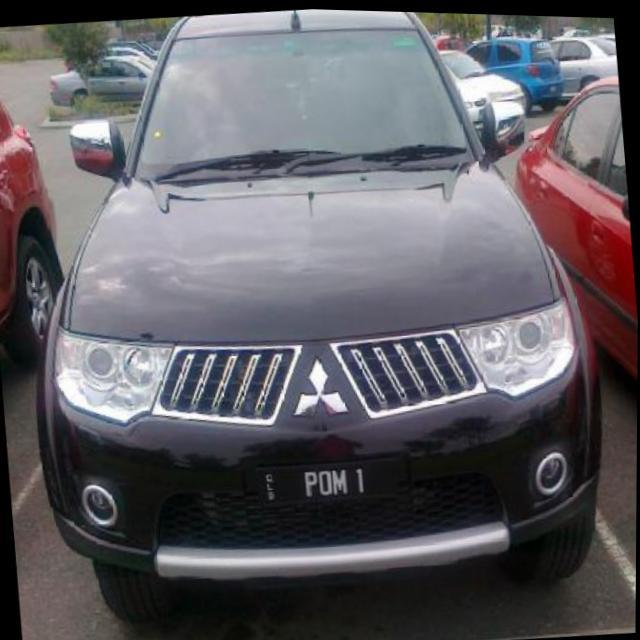license_plate: (255, 450, 412, 506), (549, 79, 559, 89)
